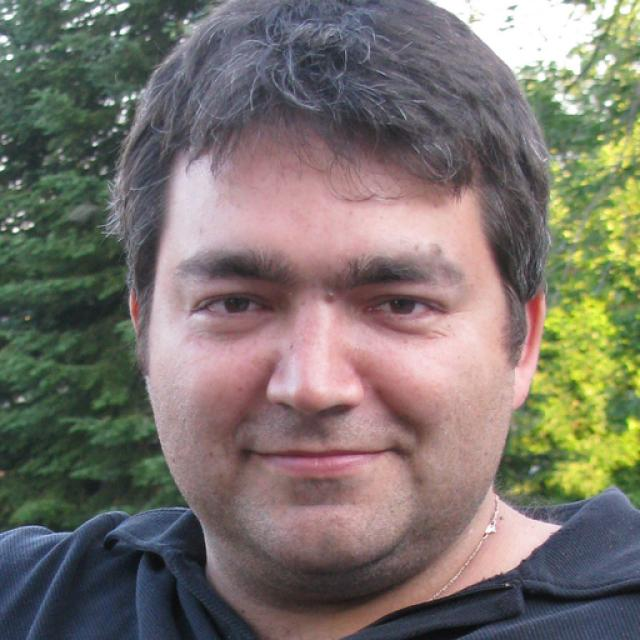Acne: (419, 229, 458, 257), (314, 284, 351, 312)
